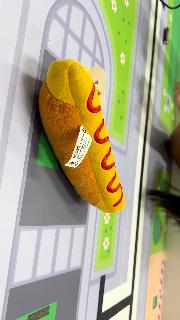hotdog: (38, 59, 126, 215)
